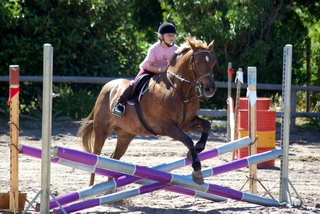person: (109, 20, 183, 122)
